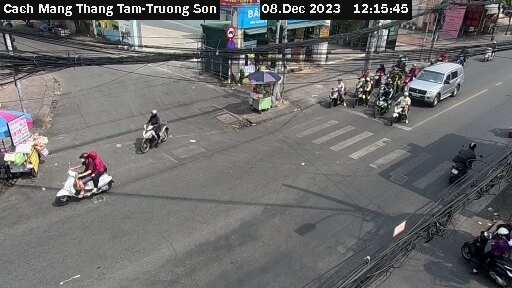car: (408, 61, 464, 109)
motorbike: (50, 155, 127, 208), (130, 112, 198, 155), (467, 220, 512, 281), (444, 137, 482, 185), (386, 91, 416, 125), (329, 79, 354, 110), (482, 38, 508, 66), (350, 79, 374, 109), (369, 86, 388, 111)
